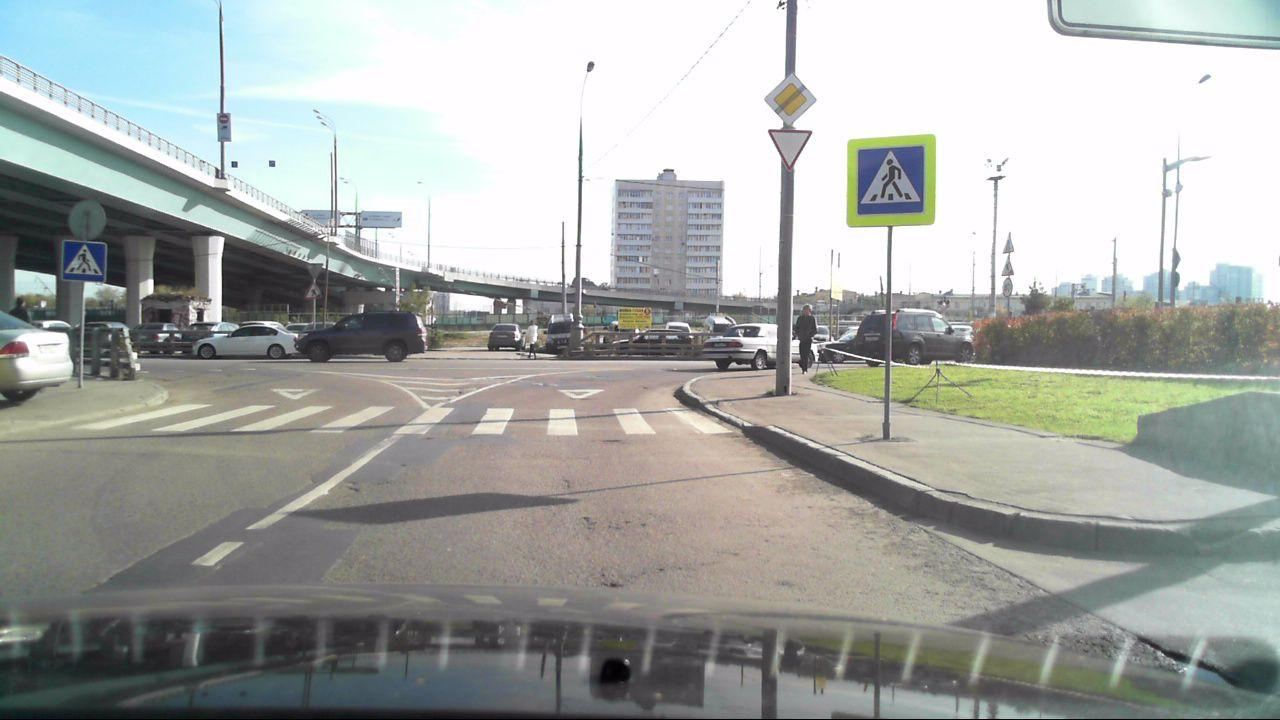1_20_2: (1001, 232, 1017, 254)
1_25: (305, 281, 324, 301), (1000, 257, 1016, 277)
2_2: (763, 73, 816, 129)
2_4: (770, 128, 812, 166)
3_24: (1001, 278, 1015, 296)
5_19_1: (857, 144, 924, 215)
5_19_2: (59, 237, 109, 281)
